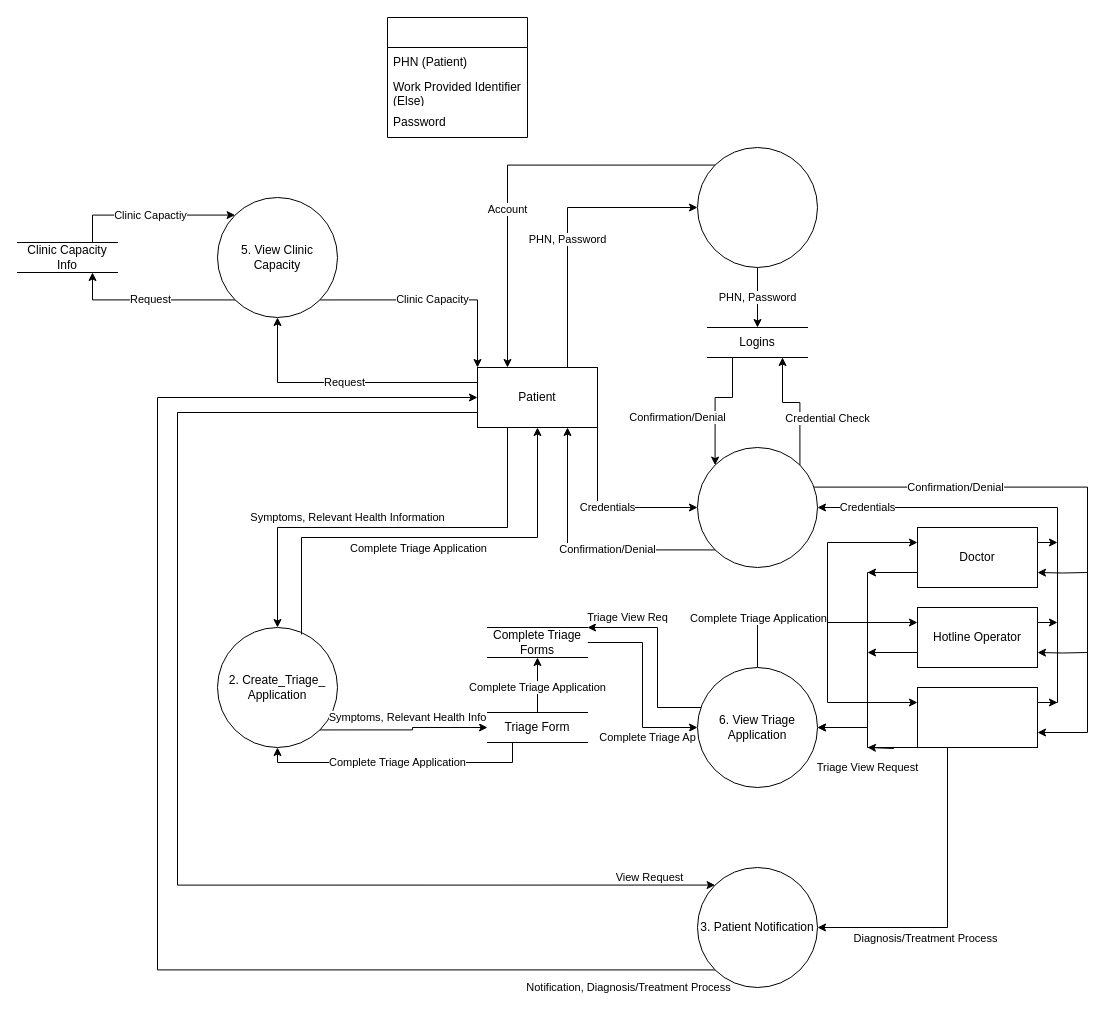
This 1113x1012 diagram has some shape labels left out. Here are the shapes that lost their labels. From the top down, the box of each, then its label:
(386, 16, 528, 138): Login Credentials
(696, 146, 818, 268): 1. Register_Account
(696, 446, 818, 568): 4. User_login
(916, 686, 1038, 748): Nurse
